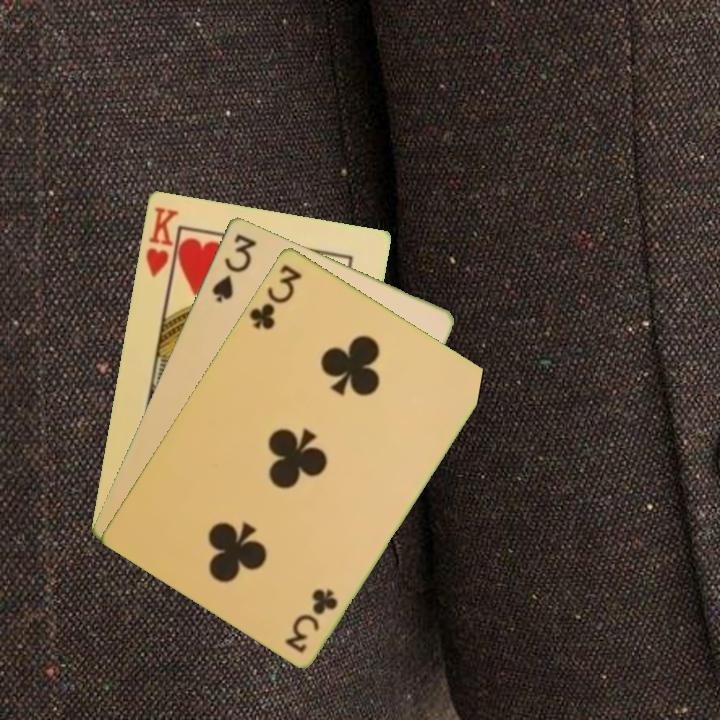3c: (245, 260, 305, 332), (281, 584, 341, 656)
3s: (208, 230, 260, 305)
Kh: (142, 203, 181, 287)
